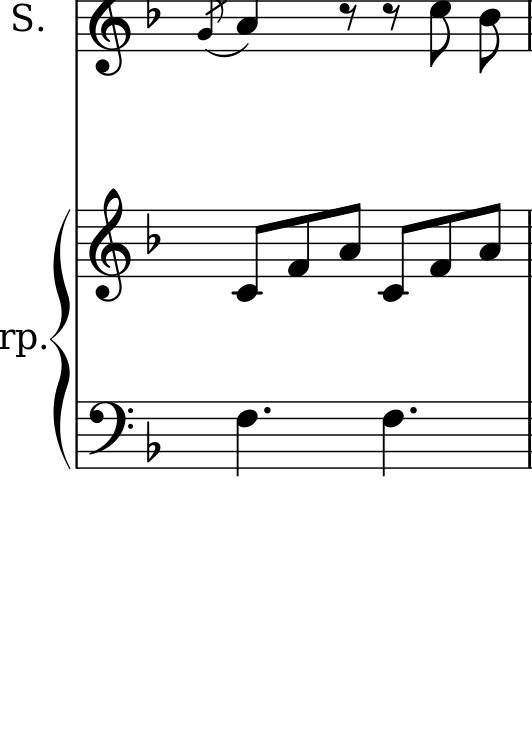4_6: (235, 399, 263, 476), (382, 399, 404, 474)
8_-2: (377, 208, 416, 303), (232, 208, 269, 303)
8_1: (427, 208, 455, 278), (286, 208, 312, 278)
8_3: (337, 202, 363, 279), (478, 200, 502, 279)
Brace: (49, 209, 74, 472)
Fclef: (85, 399, 129, 470)
Flat: (144, 209, 163, 256), (144, 419, 163, 465)
Gclef: (87, 187, 132, 302)
Rests8: (382, 1, 402, 39), (337, 1, 357, 32)
Single_barline: (70, 209, 87, 277), (72, 401, 85, 469), (521, 398, 532, 470), (523, 209, 532, 278)
dot: (406, 401, 421, 417), (260, 403, 274, 418)
